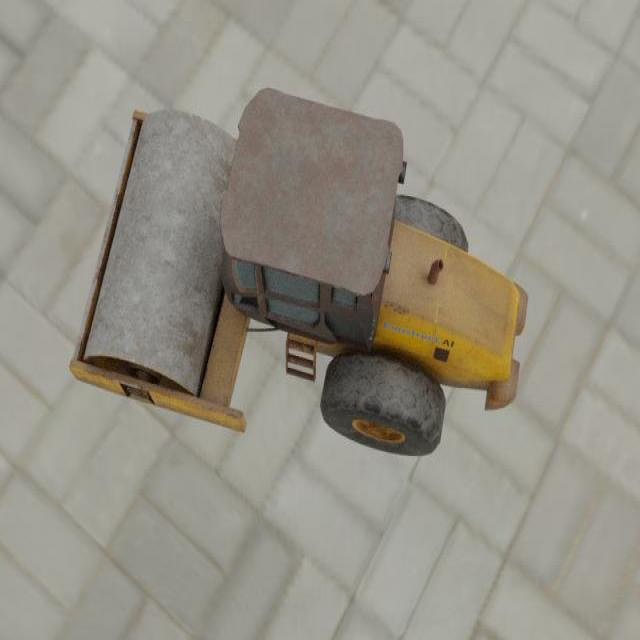Roller: (68, 87, 529, 456)
